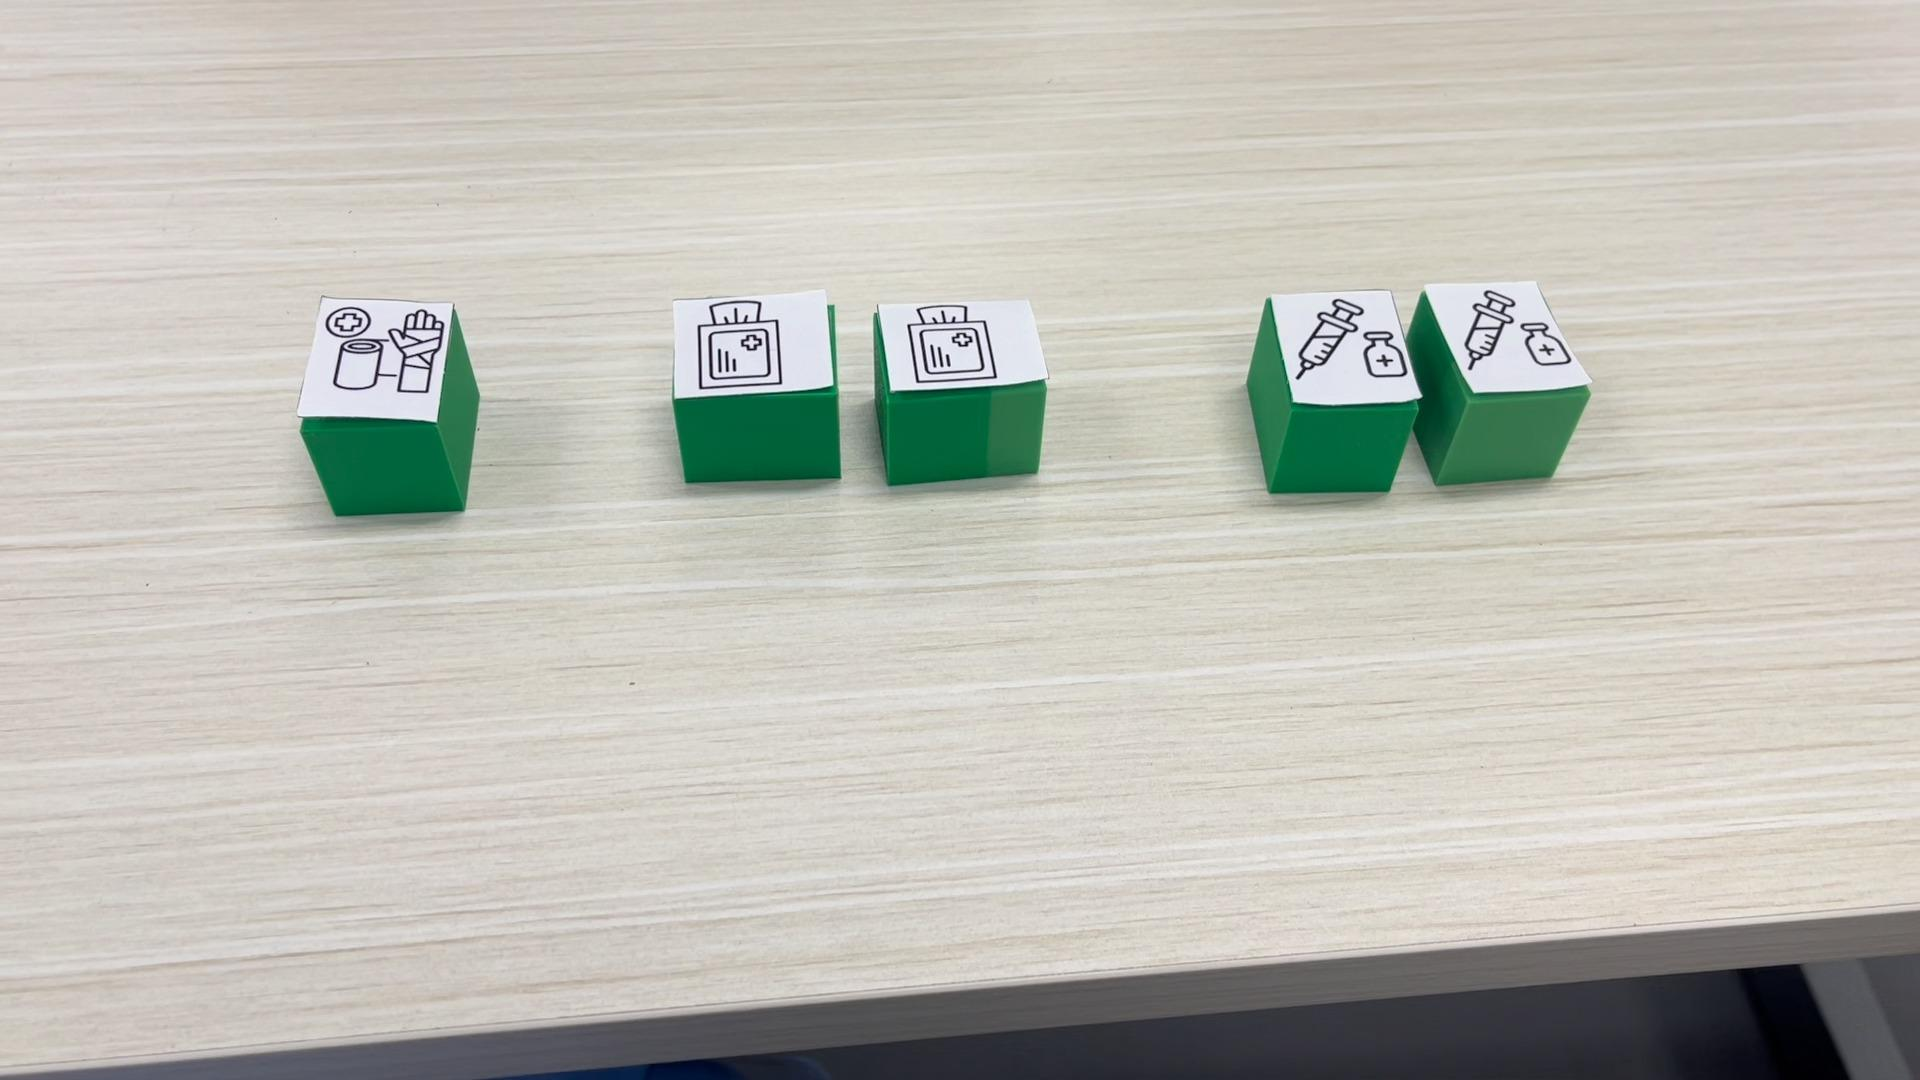Bandages: (297, 295, 479, 517)
Gauze: (872, 295, 1050, 487), (670, 286, 840, 483)
antiseptic cream: (1404, 277, 1592, 488), (1245, 289, 1424, 495)
